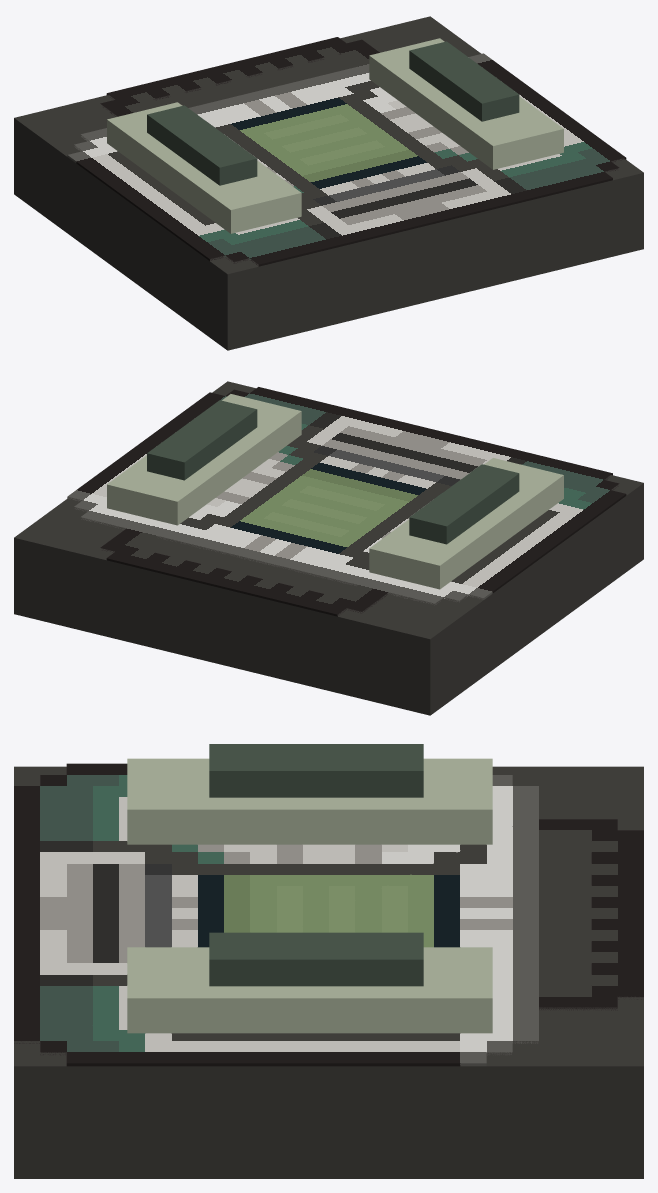
The model's file is CMU3DInteriorCMDefibrillator.glb.
3 views of the same model, one above another, from view 1: azimuth 30°, elevation 25°; view 2: azimuth 150°, elevation 25°; view 3: azimuth 270°, elevation 25° (orthographic). The views are drawn at different scales.
Parts seen in each view (by area): view 1: portable body, source upper face, removable paddle (×2), paddle grip (×2); view 2: portable body, source upper face, removable paddle (×2), paddle grip (×2); view 3: source upper face, portable body, removable paddle (×2), paddle grip (×2).
Boxes of the visible parts, x1,y1,x2,y2 form: portable body: [14, 16, 643, 350]; source upper face: [67, 37, 626, 266]; removable paddle (×2): [107, 38, 563, 233]; paddle grip (×2): [147, 41, 519, 185]; portable body: [14, 381, 643, 715]; source upper face: [67, 387, 626, 616]; removable paddle (×2): [107, 394, 563, 589]; paddle grip (×2): [147, 400, 519, 544]; source upper face: [14, 763, 643, 1066]; portable body: [14, 766, 643, 1178]; removable paddle (×2): [127, 758, 492, 1033]; paddle grip (×2): [209, 744, 423, 986].
Bounding box in the file's own units: 0.8438 × 0.233 × 0.75.
Materials: 4 (1 with a texture image).
